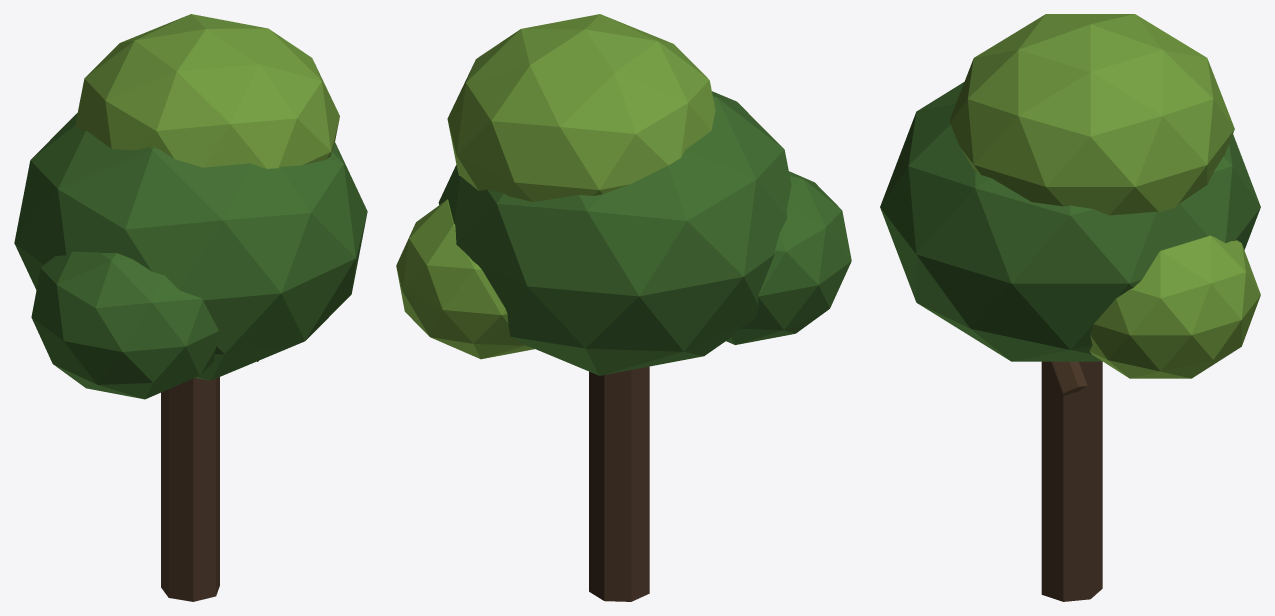
File: tree.glb
3 renders of one model, left to right at view 1: azimuth 30°, elevation 25°; view 2: azimuth 150°, elevation 25°; view 3: azimuth 270°, elevation 25°, orthographic. The views are drawn at different scales.
Parts seen in each view (by area): view 1: Canopy, Canopy crown, Canopy side, Trunk; view 2: Canopy, Canopy crown, Trunk, Canopy side.001, Canopy side; view 3: Canopy, Canopy crown, Canopy side.001, Trunk, Limb.
Part boxes in pixels (x1,y1,x2,y2): Canopy: [14, 113, 367, 380]; Canopy crown: [75, 14, 339, 168]; Canopy side: [31, 251, 218, 399]; Trunk: [161, 377, 219, 601]; Canopy: [438, 91, 791, 375]; Canopy crown: [447, 14, 715, 202]; Trunk: [589, 366, 649, 601]; Canopy side.001: [396, 199, 534, 359]; Canopy side: [726, 171, 851, 344]; Canopy: [880, 82, 1260, 361]; Canopy crown: [950, 14, 1234, 215]; Canopy side.001: [1089, 235, 1260, 378]; Trunk: [1041, 361, 1102, 601]; Limb: [1051, 361, 1087, 395].
Bounding box in the file's own units: 2.05 × 3.18 × 1.9.
